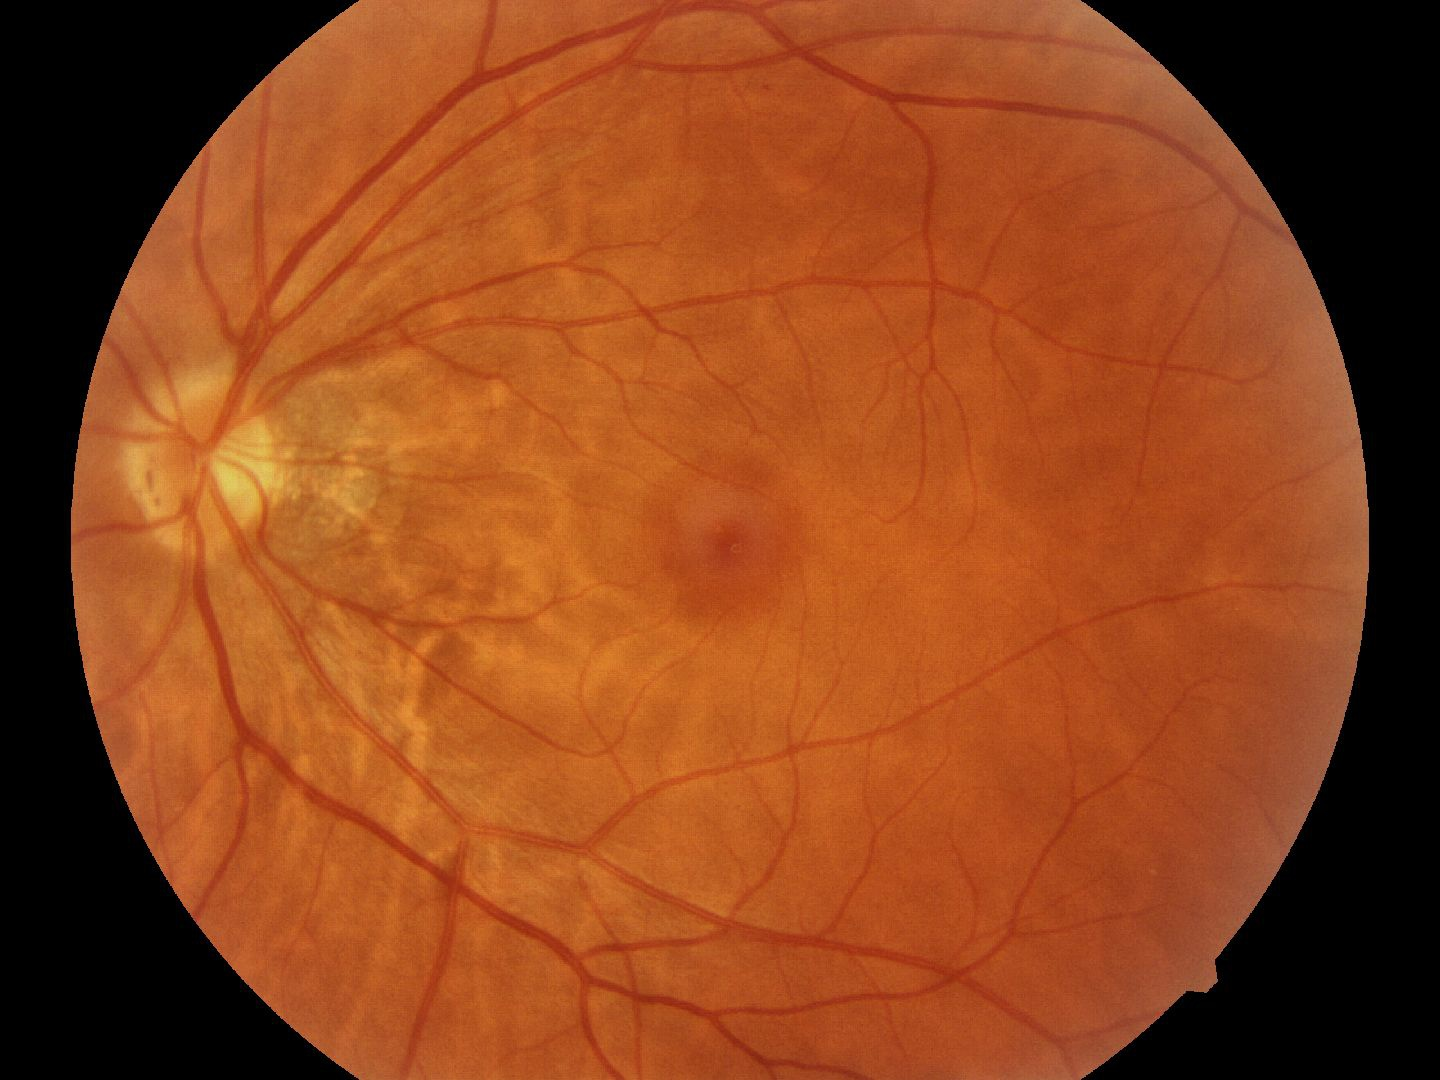Arterioles: (676, 690, 1068, 910)
Hemorrhages: (657, 459, 801, 638)
Optic-Disc: (118, 353, 273, 560)
Venules: (246, 65, 466, 298), (207, 594, 300, 875)
